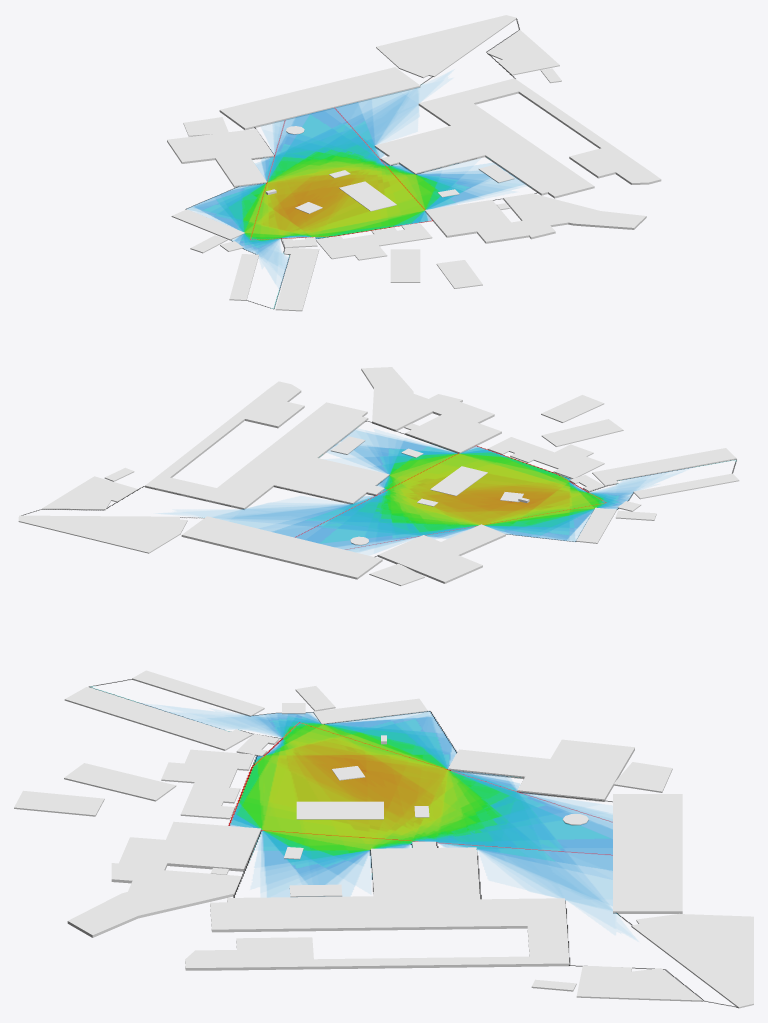
File: agora.glb
3 renders of one model, top to bottom at view 1: azimuth 30°, elevation 25°; view 2: azimuth 150°, elevation 25°; view 3: azimuth 270°, elevation 25°, orthographic. The views are drawn at different scales.
Visible parts, largest first — view 1: heatmap_3_agora_all, heatmap_3_agora_color, Mesh_3.001, Mesh_2.001, Mesh_0.001, Mesh_16, Mesh_1.001, Mesh_19, Mesh_18, Mesh_15, Mesh_13, Mesh_9 (+4 smaller); view 2: heatmap_3_agora_all, heatmap_3_agora_color, Mesh_3.001, Mesh_2.001, Mesh_0.001, Mesh_16, Mesh_1.001, Mesh_19, Mesh_18, Mesh_15, Mesh_13, Mesh_14 (+4 smaller); view 3: heatmap_3_agora_all, heatmap_3_agora_color, Mesh_3.001, Mesh_2.001, Mesh_0.001, Mesh_16, Mesh_1.001, Mesh_19, Mesh_18, Mesh_15, Mesh_13, Mesh_14 (+6 smaller).
Boxes of the visible parts, box(x1,y1,x2,y2) form: heatmap_3_agora_all: box(185, 18, 538, 309); heatmap_3_agora_color: box(193, 93, 503, 259); Mesh_3.001: box(374, 78, 661, 198); Mesh_2.001: box(425, 193, 646, 243); Mesh_0.001: box(219, 67, 420, 130); Mesh_16: box(376, 15, 516, 78); Mesh_1.001: box(167, 129, 274, 187); Mesh_19: box(282, 223, 432, 260); Mesh_18: box(275, 247, 319, 311); Mesh_15: box(487, 30, 559, 75); Mesh_13: box(390, 249, 420, 282); Mesh_9: box(339, 181, 396, 211); heatmap_3_agora_all: box(21, 421, 736, 556); heatmap_3_agora_color: box(227, 435, 636, 548); Mesh_3.001: box(145, 381, 389, 509); Mesh_2.001: box(361, 367, 501, 453); Mesh_0.001: box(181, 516, 382, 579); Mesh_16: box(18, 515, 187, 553); Mesh_1.001: box(378, 524, 505, 583); Mesh_19: box(487, 437, 604, 491); Mesh_18: box(592, 448, 736, 486); Mesh_15: box(42, 476, 137, 510); Mesh_13: box(541, 419, 623, 446); Mesh_14: box(633, 473, 739, 499); heatmap_3_agora_all: box(89, 679, 737, 1007); heatmap_3_agora_color: box(231, 713, 612, 902); Mesh_3.001: box(185, 841, 569, 970); Mesh_2.001: box(67, 821, 261, 937); Mesh_0.001: box(613, 794, 682, 913); Mesh_16: box(631, 913, 753, 1008); Mesh_1.001: box(448, 739, 634, 801); Mesh_19: box(161, 734, 279, 819); Mesh_18: box(64, 687, 252, 750); Mesh_15: box(576, 965, 703, 1001); Mesh_13: box(64, 763, 176, 801); Mesh_14: box(132, 670, 264, 716).
Bounding box in the file's own units: 1.2 × 0.0333 × 1.11.
Materials: 27 (3 with a texture image).
